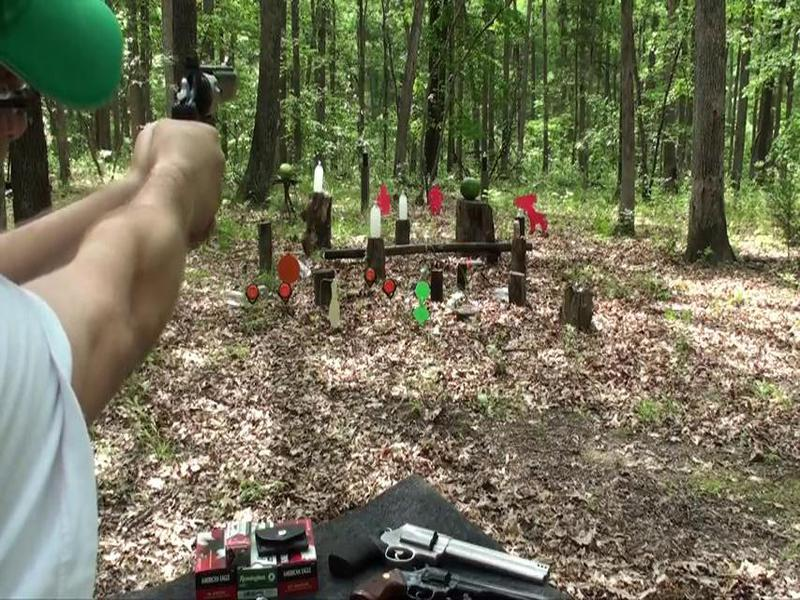Revolver: (156, 45, 253, 185)
